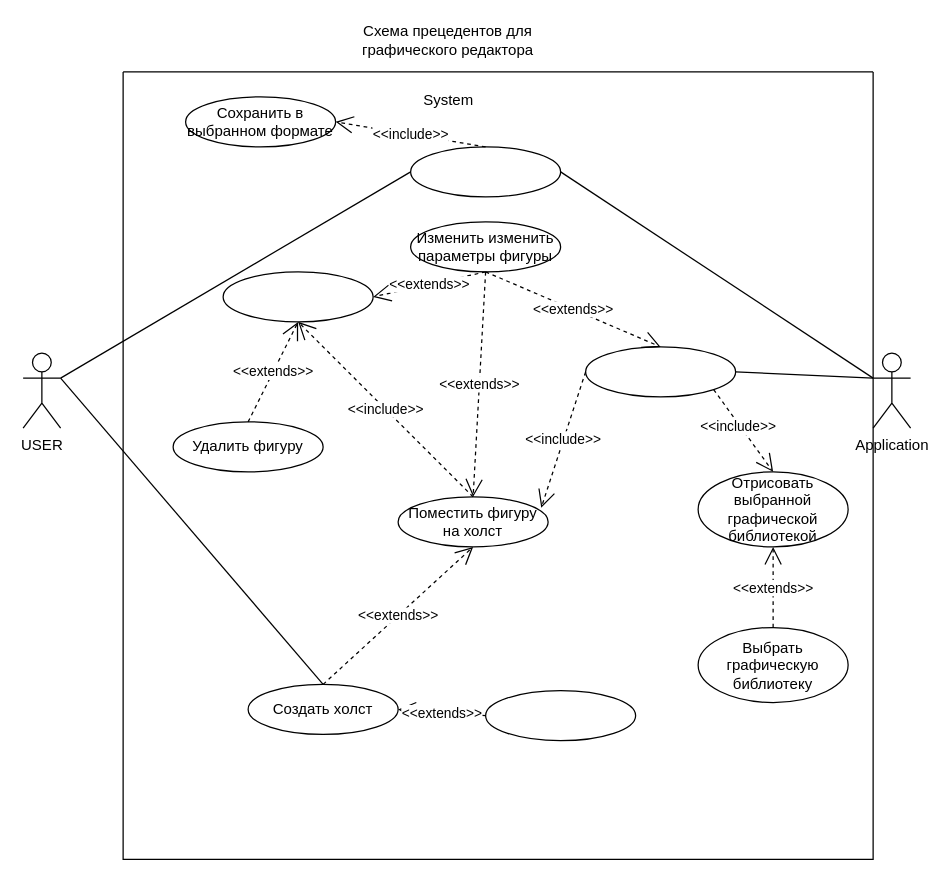
The diagram is 950 pixels wide and 881 high, and some of its shapes have lost their labels. The centre of each missing label's shape, as x and y in pixels:
"Выбрать фигуру" goes at point (297, 296).
"Изменить изменить параметры холста" goes at point (560, 715).
"Отрисовать фигуру" goes at point (660, 371).
"Сохранить изображение" goes at point (485, 171).
